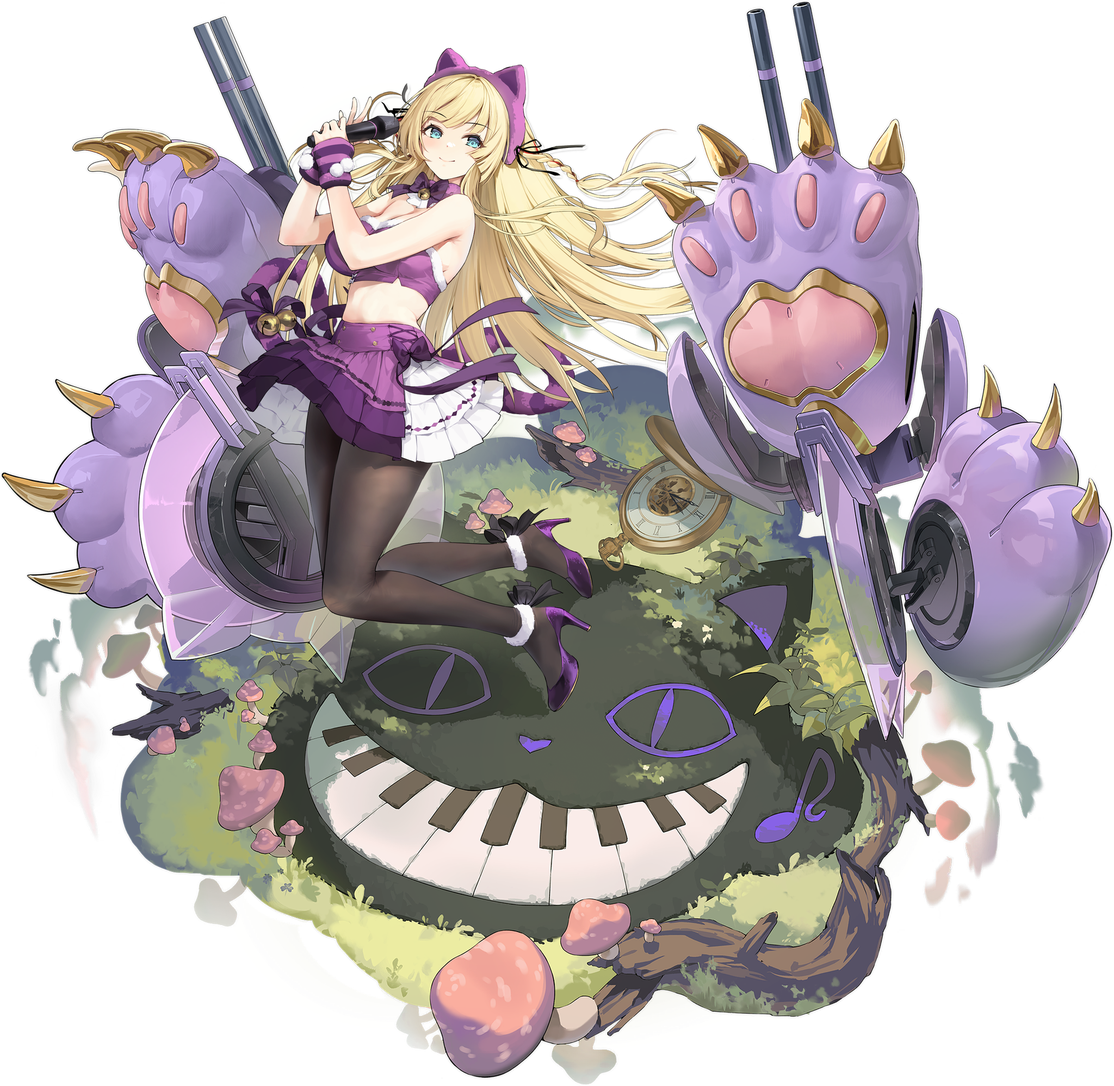person: (16, 18, 1107, 1074)
